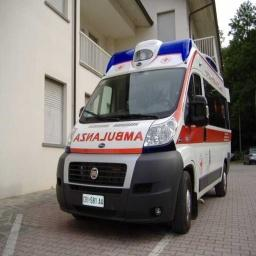Ambulance: (56, 39, 230, 232)
